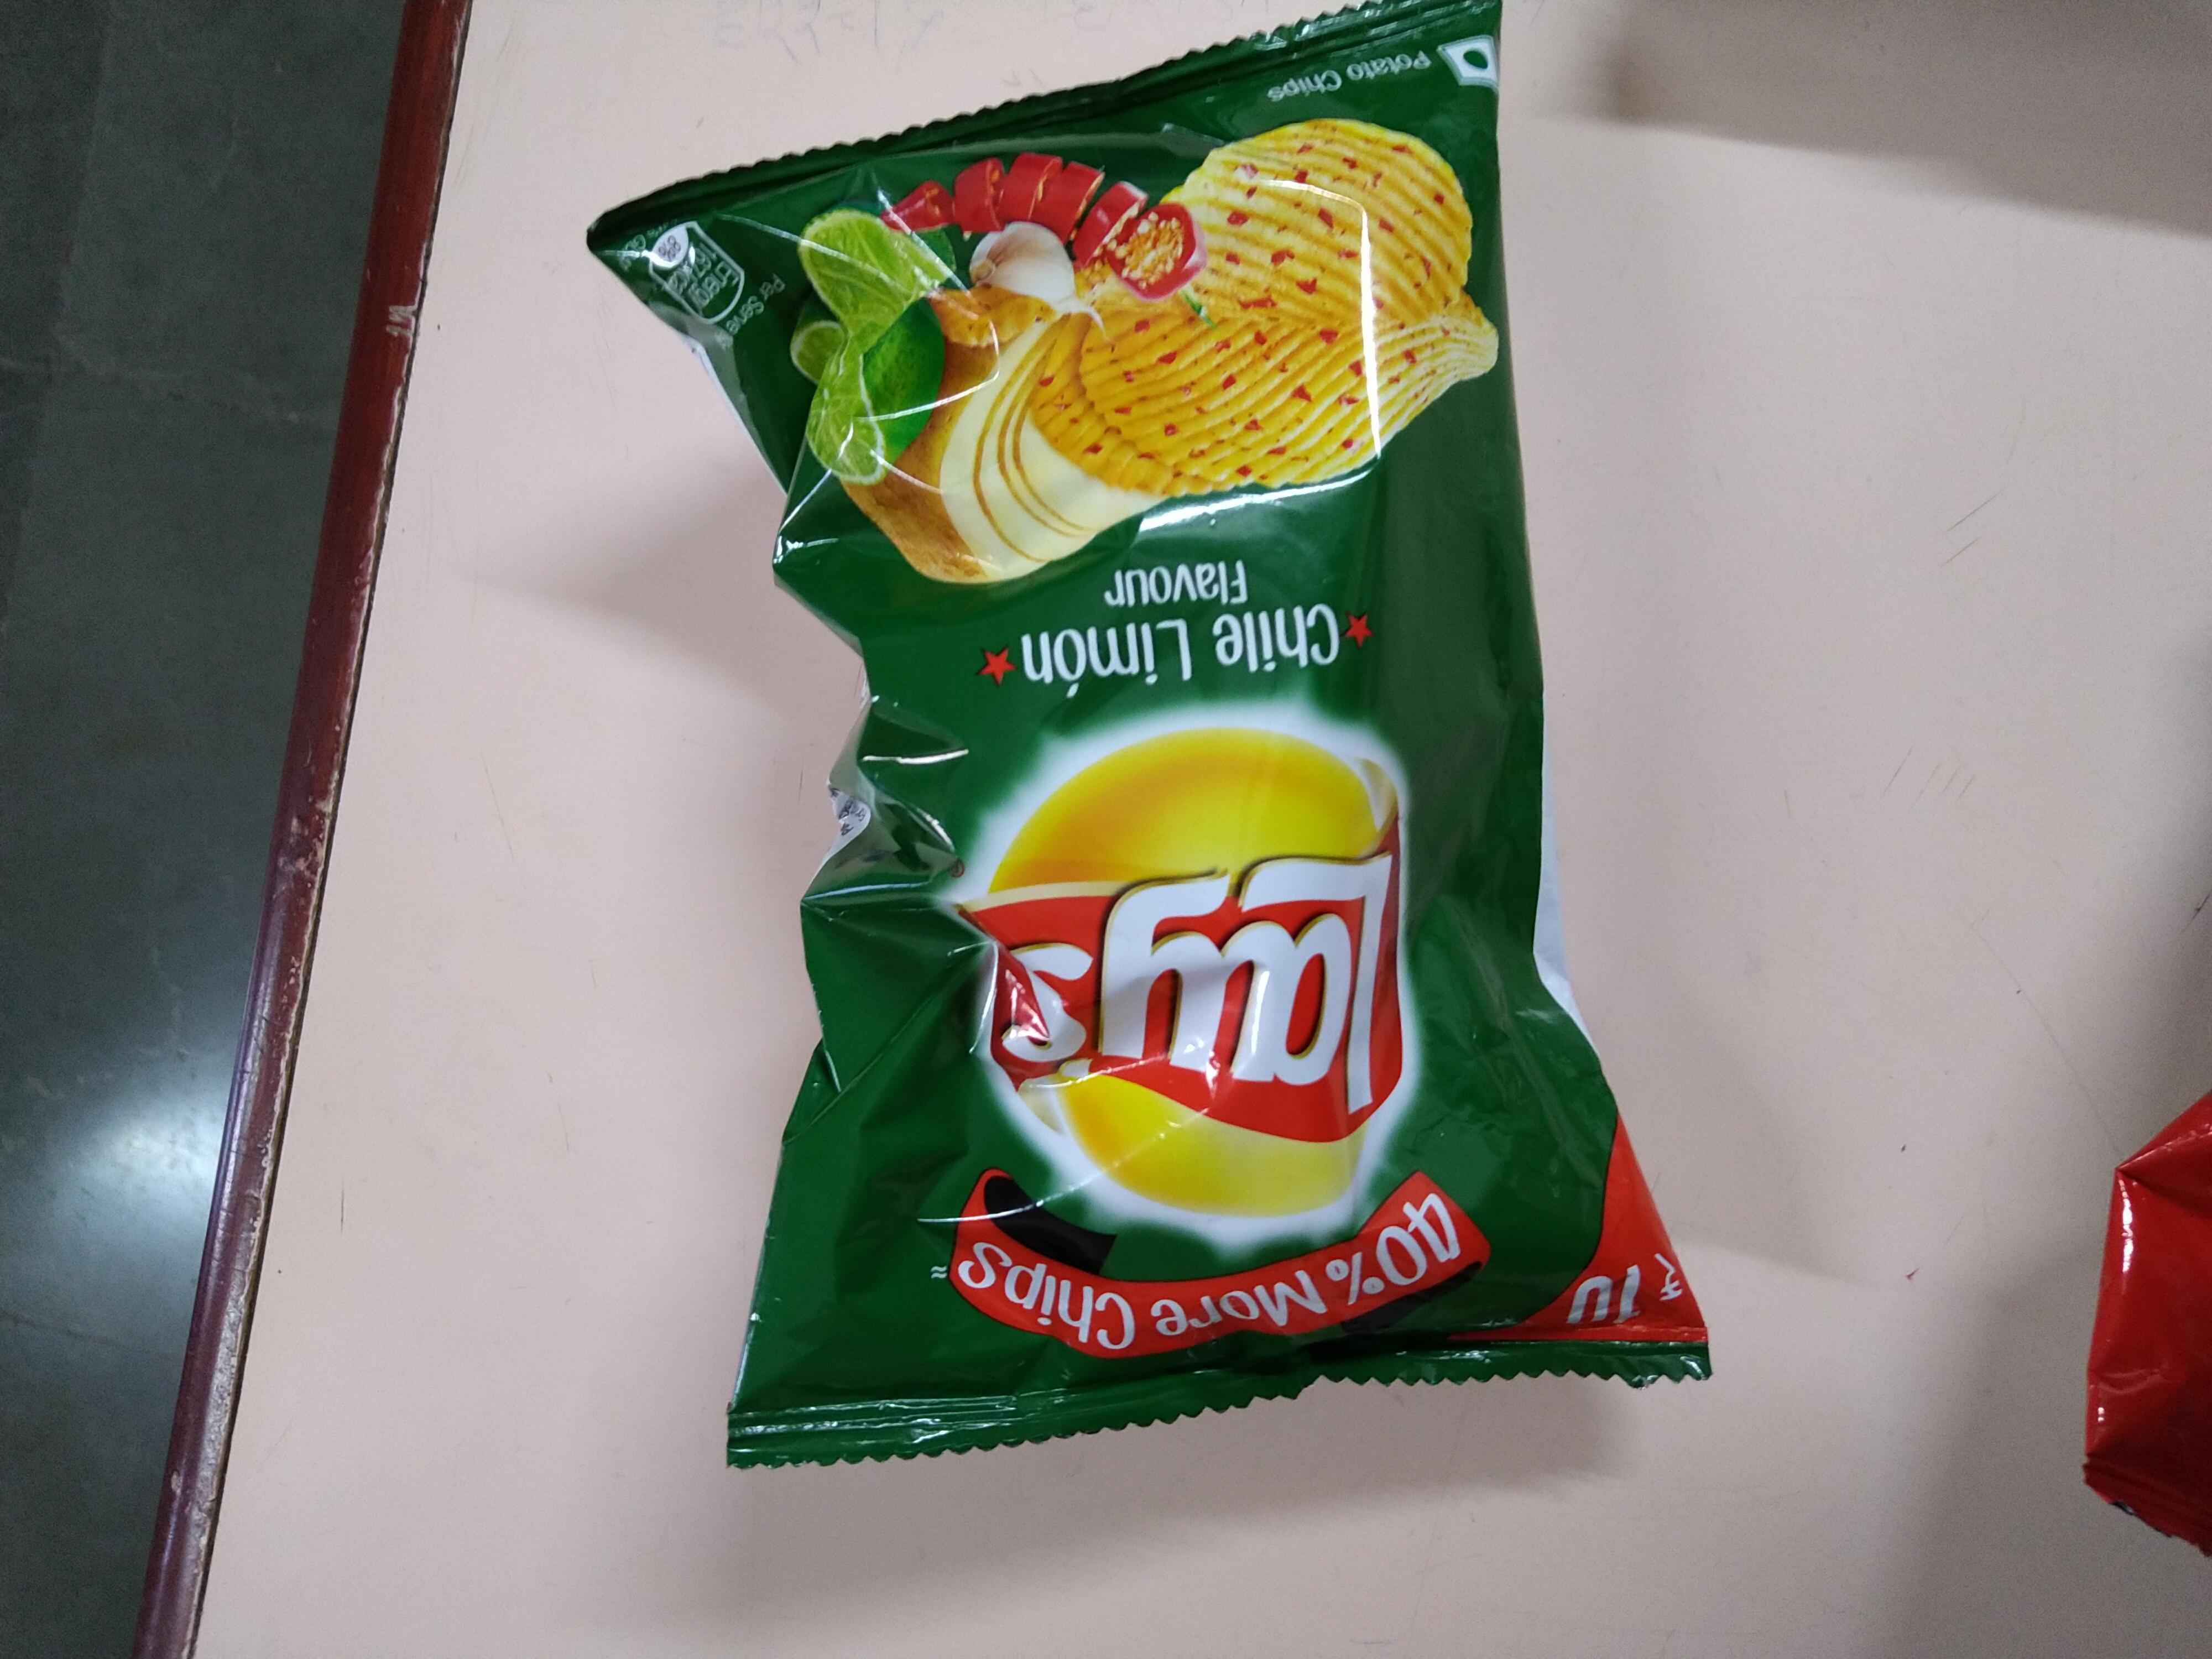Lays: (965, 720, 1442, 1201)
